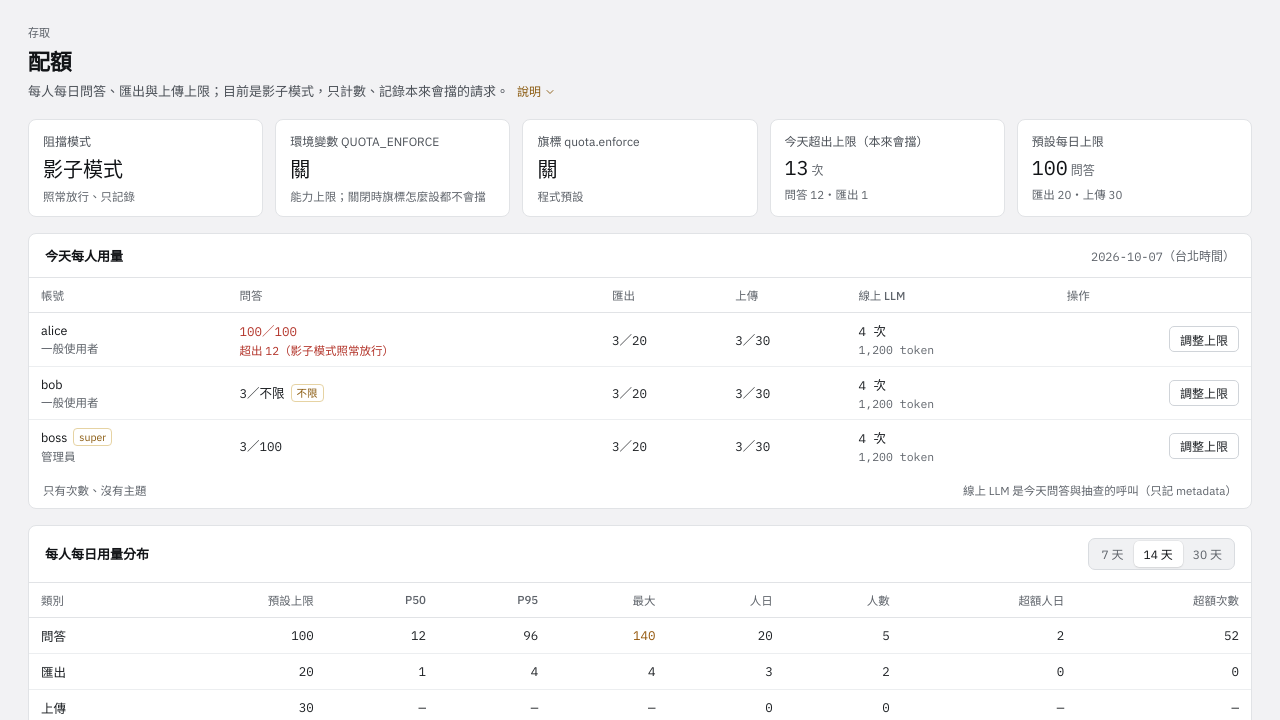
it: super admin 可以選「不限」
Click the button "調整上限" in the row of "alice": (1204, 339) [1169,326,1239,352]
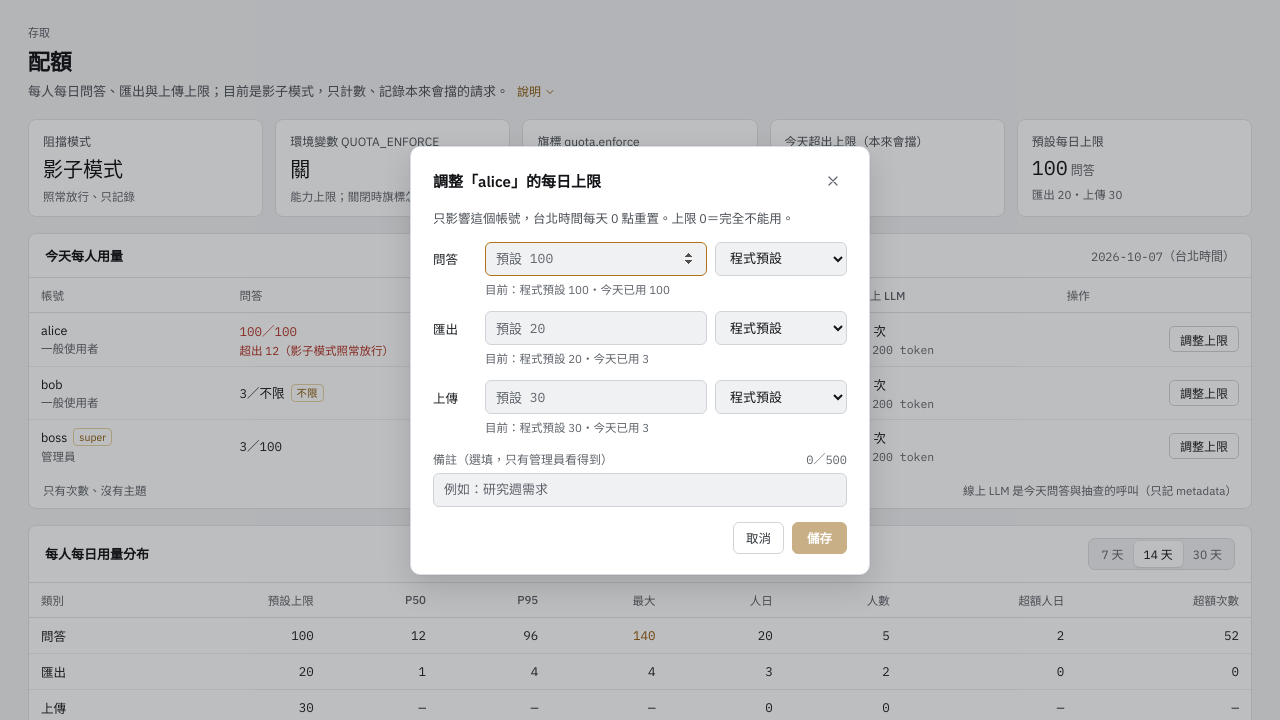
Select "不限" in the dropdown named "問答設定": (781, 259) [715,242,847,276]
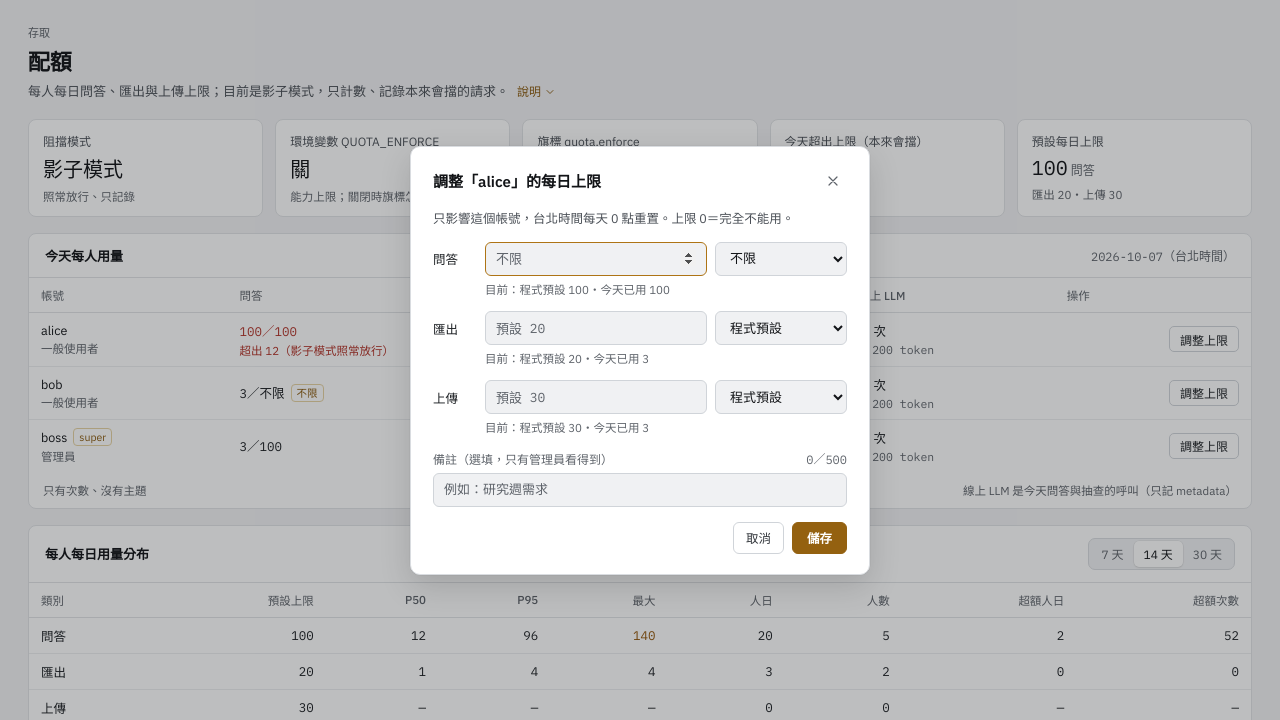
Click the button "儲存": (820, 538) [792,522,847,554]
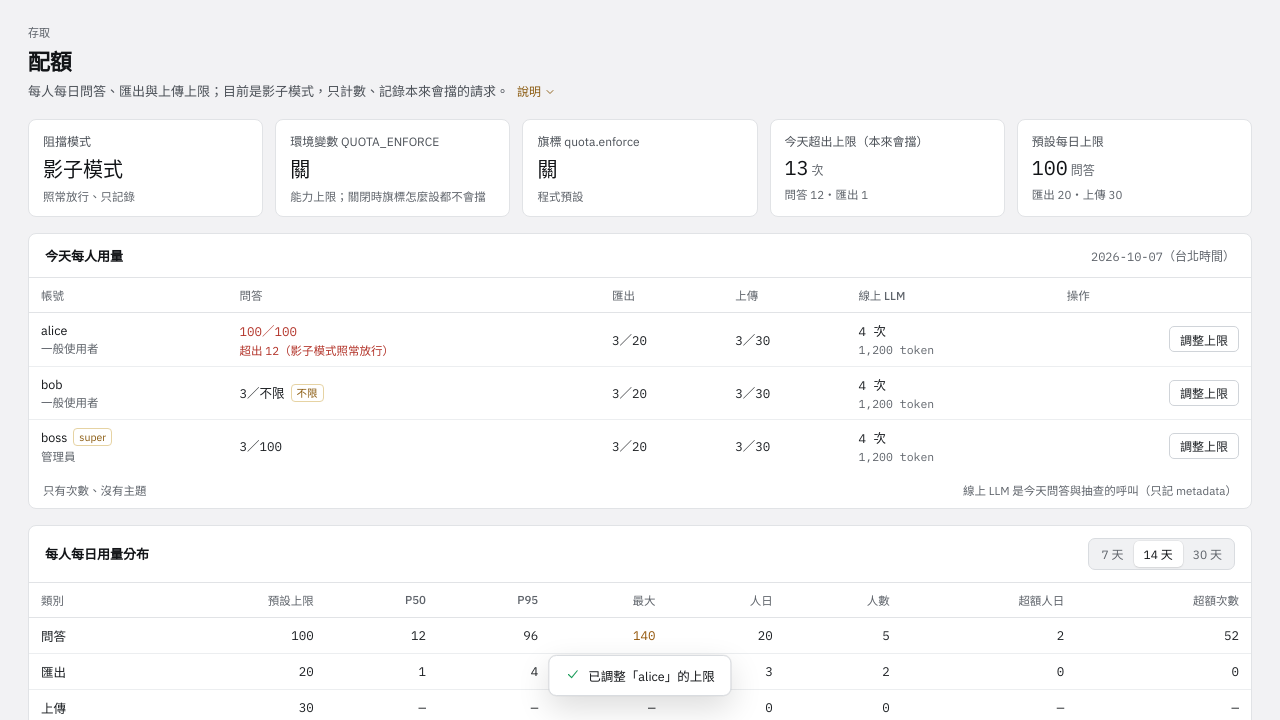
Check: the message reads "已調整「alice」的上限", box [588,668,715,684]
